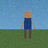person: (20, 10, 35, 38)
